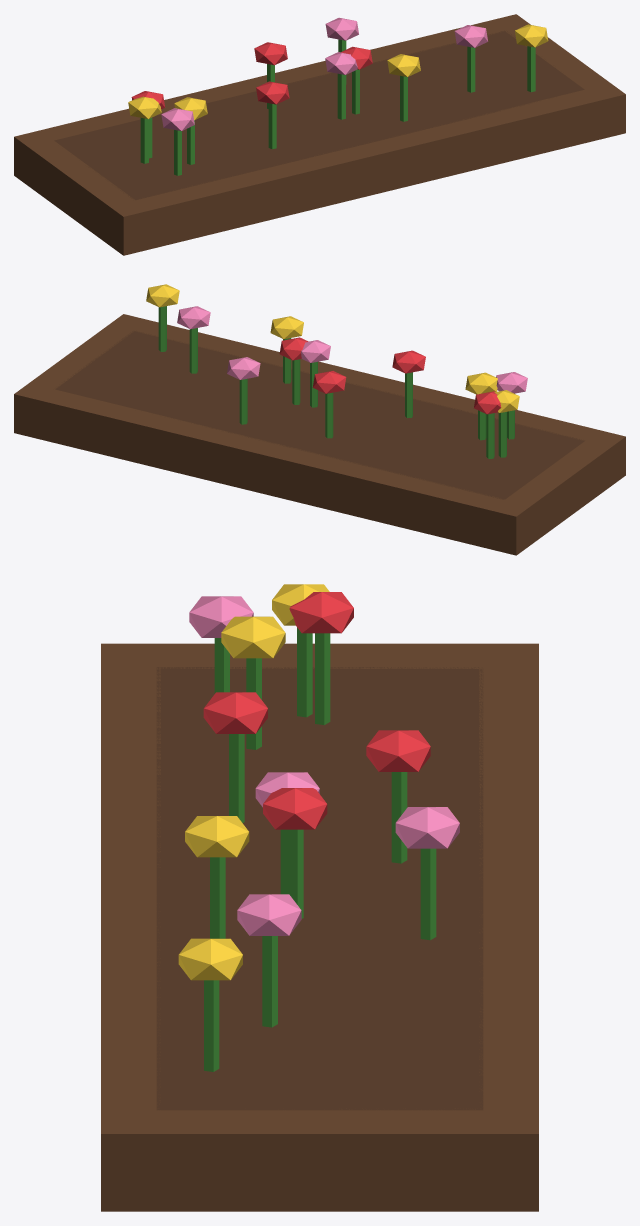
Rendered from Flowerbed.fbx.
3 renders of one model, top to bottom at view 1: azimuth 30°, elevation 25°; view 2: azimuth 150°, elevation 25°; view 3: azimuth 270°, elevation 25°, orthographic. The views are drawn at different scales.
Parts seen in each view (by area): view 1: Logs, Soil, Stems, FlowersPink, FlowersYellow, FlowersRed; view 2: Logs, Soil, Stems, FlowersPink, FlowersYellow, FlowersRed; view 3: Soil, Logs, Stems, FlowersRed, FlowersYellow, FlowersPink.
Part boxes in pixels (x1,y1,x2,y2): Logs: [14, 14, 625, 255]; Soil: [54, 30, 584, 200]; Stems: [140, 39, 535, 175]; FlowersPink: [161, 17, 487, 130]; FlowersYellow: [128, 24, 548, 120]; FlowersRed: [131, 42, 372, 109]; Logs: [14, 314, 625, 555]; Soil: [55, 330, 584, 499]; Stems: [158, 306, 514, 458]; FlowersPink: [177, 306, 527, 393]; FlowersYellow: [146, 284, 519, 412]; FlowersRed: [279, 337, 501, 414]; Soil: [156, 667, 483, 1110]; Logs: [101, 643, 538, 1211]; Stems: [204, 627, 436, 1071]; FlowersRed: [203, 592, 430, 829]; FlowersYellow: [178, 584, 329, 980]; FlowersPink: [189, 596, 459, 935].
Bounding box in the file's own units: 6.75 × 1.33 × 2.55.
